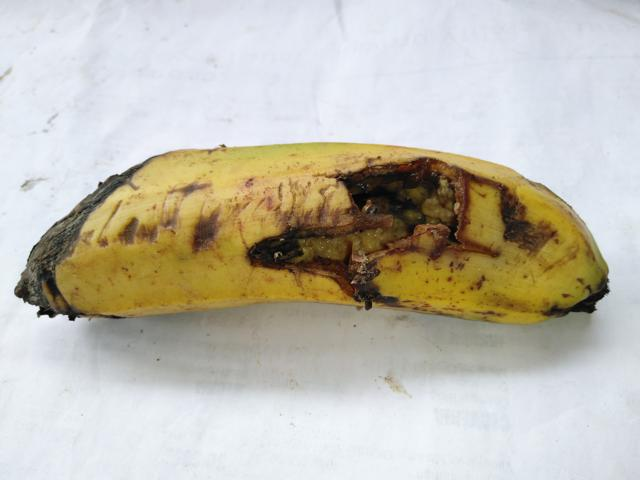rotten: (242, 119, 552, 346), (0, 119, 179, 358)
